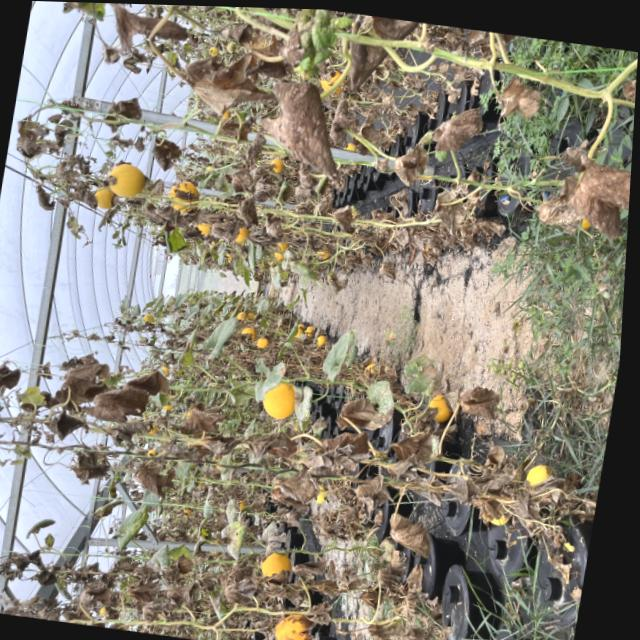SLCV: (283, 9, 342, 74)
bacterial wilt: (259, 65, 357, 183), (176, 43, 268, 128), (554, 154, 632, 243), (83, 379, 148, 434), (428, 97, 485, 158), (382, 509, 436, 560), (454, 374, 505, 424), (267, 462, 322, 505), (173, 397, 230, 436), (59, 354, 113, 395), (128, 455, 176, 496), (392, 138, 431, 185), (332, 392, 378, 431), (44, 403, 86, 440), (80, 575, 116, 609), (125, 571, 161, 605), (373, 559, 405, 589), (365, 615, 398, 640)
